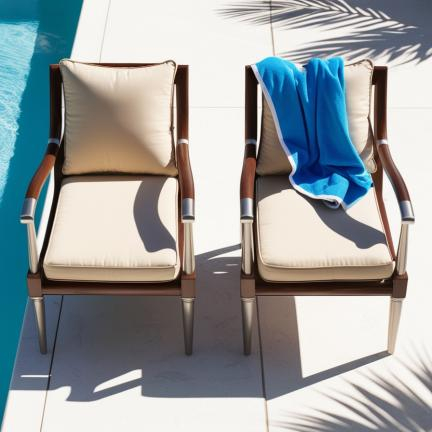empty chair: (19, 57, 198, 356)
occupied chair: (240, 57, 414, 354)
